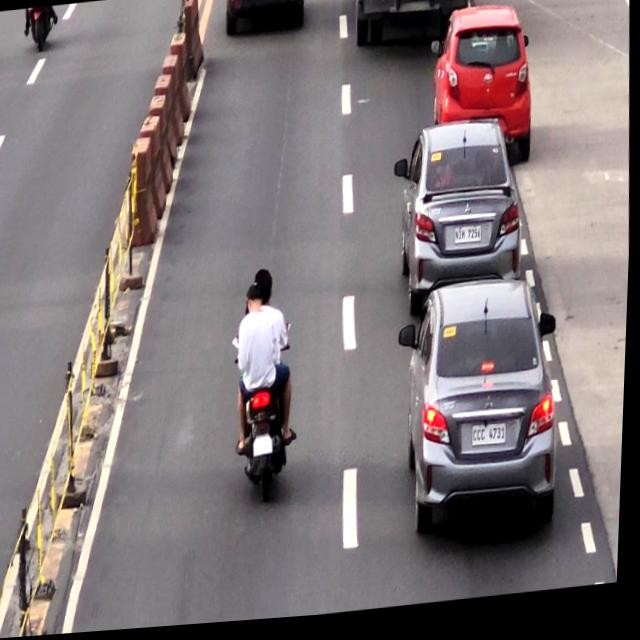Car: (407, 279, 561, 537), (401, 124, 527, 298), (431, 9, 538, 168)
License-Plate: (476, 430, 509, 456), (455, 231, 485, 252)
Motorcycle: (232, 272, 303, 499)
